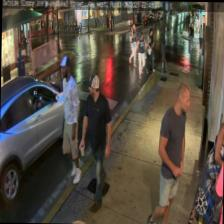person: (147, 82, 190, 224), (77, 72, 112, 212), (57, 55, 83, 183)
